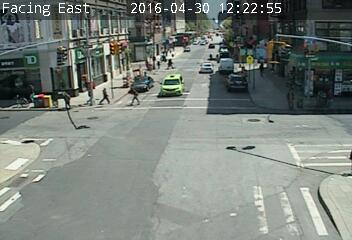neg: (2, 98, 23, 127), (227, 138, 246, 162), (270, 149, 287, 172), (182, 173, 198, 194), (139, 114, 154, 134), (148, 171, 163, 190), (318, 62, 331, 78), (46, 46, 58, 63), (199, 87, 211, 103), (199, 56, 211, 72), (296, 156, 308, 172), (23, 26, 34, 41), (91, 110, 102, 125), (195, 129, 206, 144), (253, 186, 264, 200), (71, 61, 81, 74), (81, 20, 90, 32), (64, 125, 73, 137), (223, 183, 232, 195), (310, 133, 319, 145), (175, 87, 183, 98), (132, 61, 140, 71), (185, 12, 192, 22), (162, 11, 169, 21), (47, 109, 54, 119), (242, 90, 249, 100), (217, 10, 224, 19), (141, 10, 148, 19), (114, 12, 121, 21), (231, 34, 238, 42), (137, 36, 143, 45), (98, 68, 104, 76), (109, 39, 115, 46), (104, 131, 109, 138)
pos: (280, 86, 300, 112), (250, 57, 270, 83), (95, 85, 113, 109), (58, 90, 74, 112), (125, 82, 141, 104), (24, 82, 36, 99), (165, 56, 175, 71), (154, 58, 161, 68)
